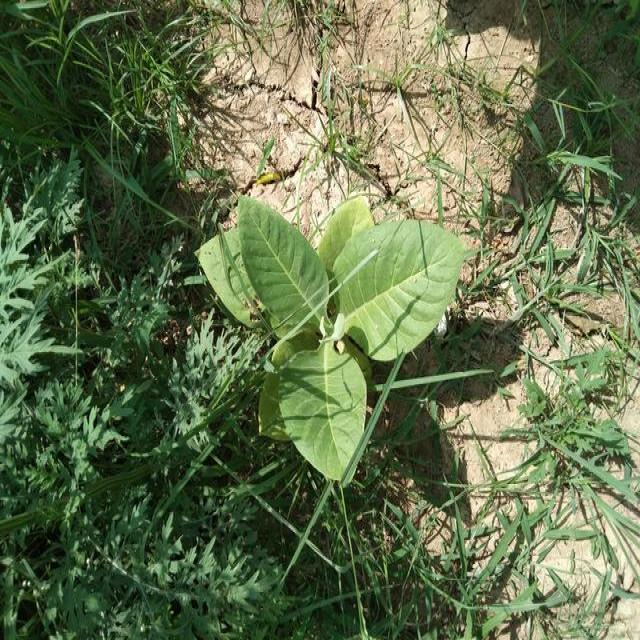crop: (210, 187, 452, 488)
